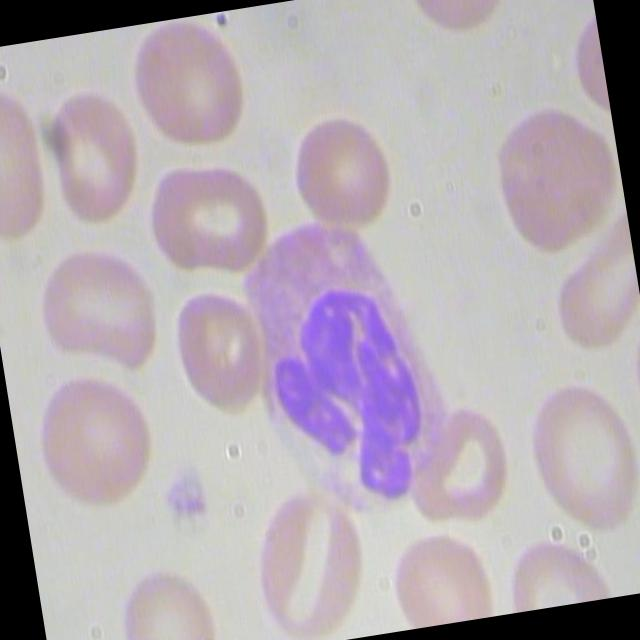RBC: (482, 96, 632, 262), (26, 352, 168, 522), (26, 226, 172, 384), (121, 8, 267, 166), (520, 366, 640, 552), (246, 481, 383, 640), (36, 70, 152, 237), (274, 98, 410, 239), (142, 145, 276, 286), (396, 394, 525, 534), (162, 282, 276, 426), (384, 519, 500, 630), (109, 545, 226, 640), (0, 75, 60, 253)
WBC: (207, 196, 463, 528)
